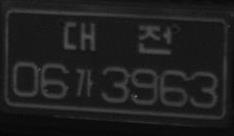0: (10, 60, 39, 98)
3: (100, 66, 130, 103), (189, 71, 218, 109)
6: (159, 69, 187, 109), (39, 62, 68, 99)
9: (131, 67, 159, 107)
가: (72, 67, 95, 98)
대전_D: (62, 19, 172, 55)
